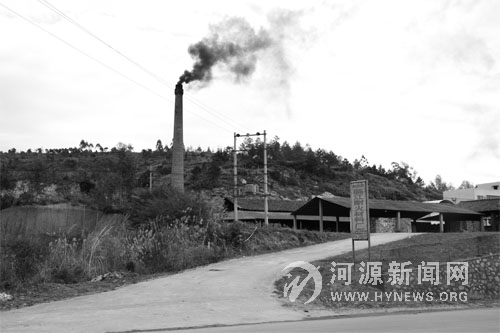dust: (166, 17, 267, 86)
